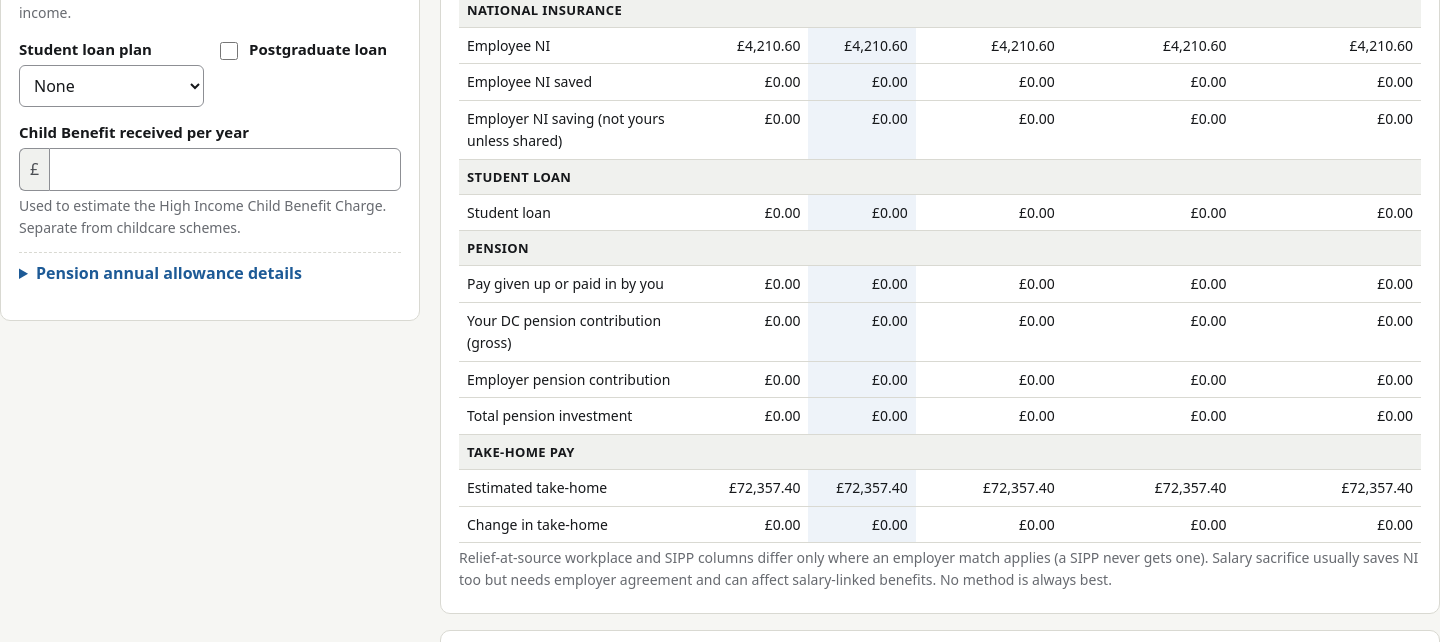
Scenario: calculator UI › audit F2: other-scheme personal contributions reduce adjusted net income
(page scrolled)
Click the heading "Pension annual allowance details".
click(169, 273)  # box [36, 262, 302, 284]
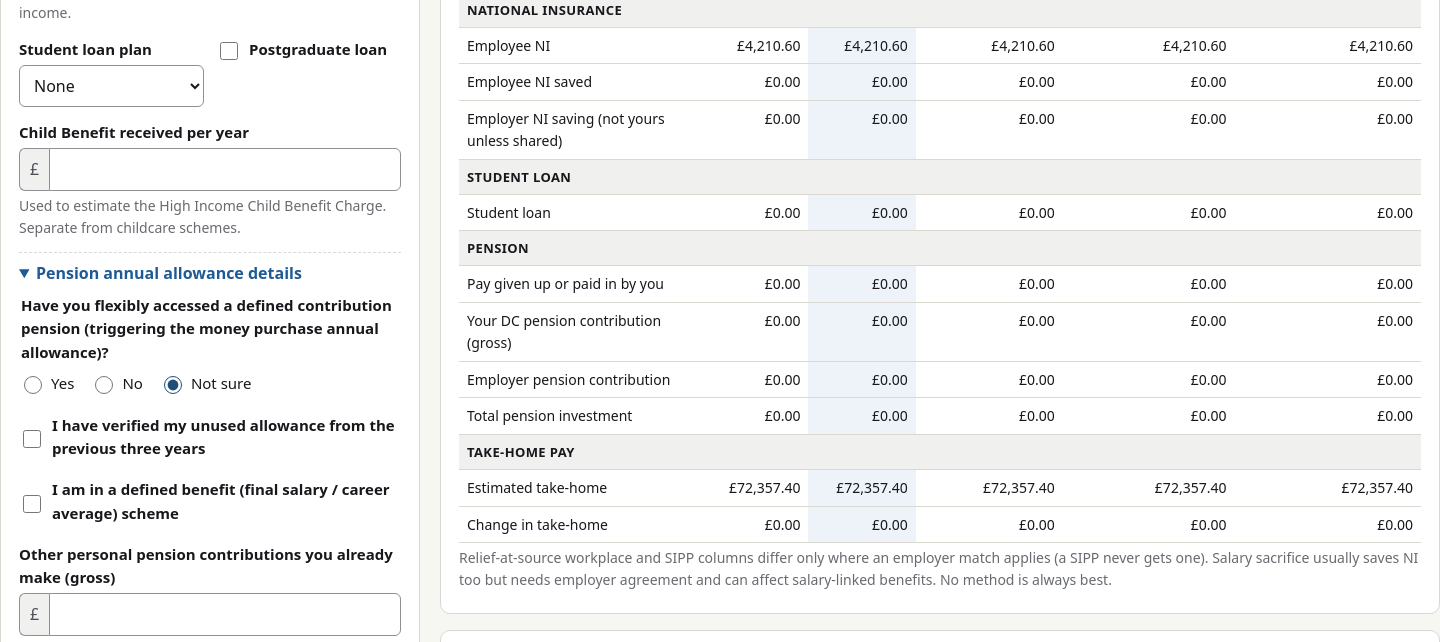
Type "4000" into the field labelled "Other personal pension contributions you already make".
click(225, 615); type("4000")  # box [49, 593, 401, 636]
(page scrolled)
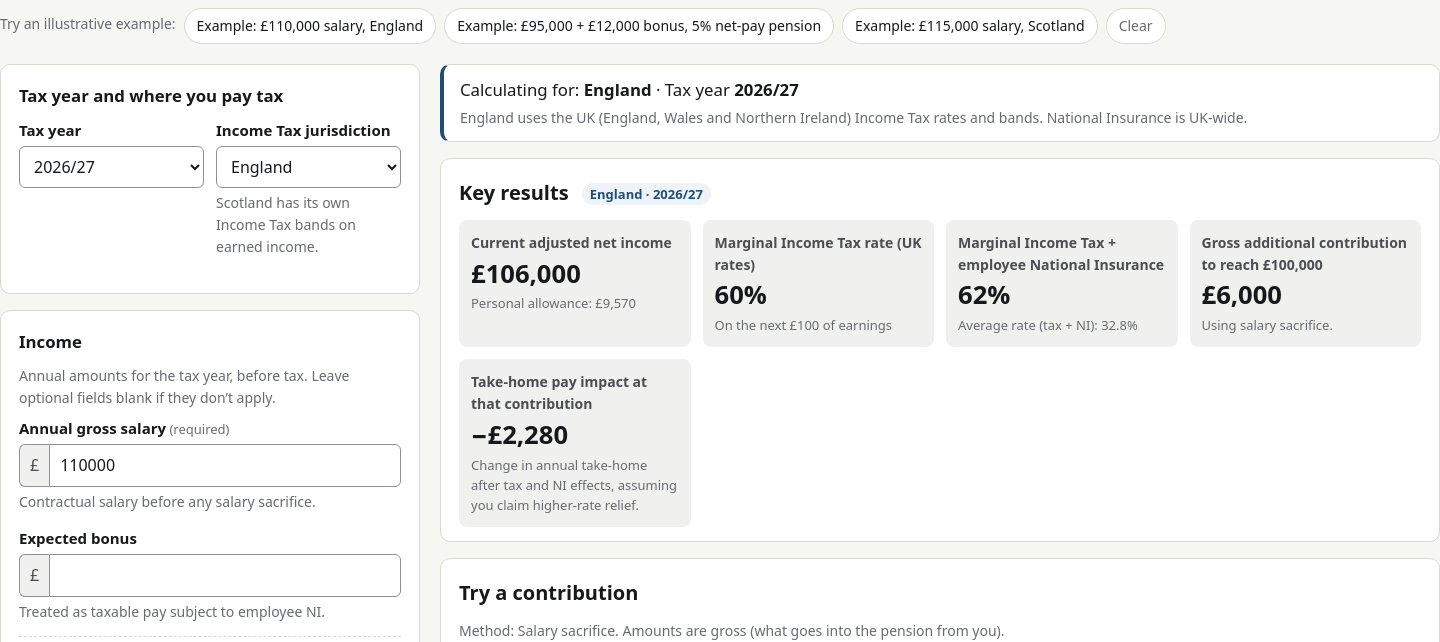
expect the text with test id "current-ani" reads "£106,000": met, box [471, 256, 581, 290]
